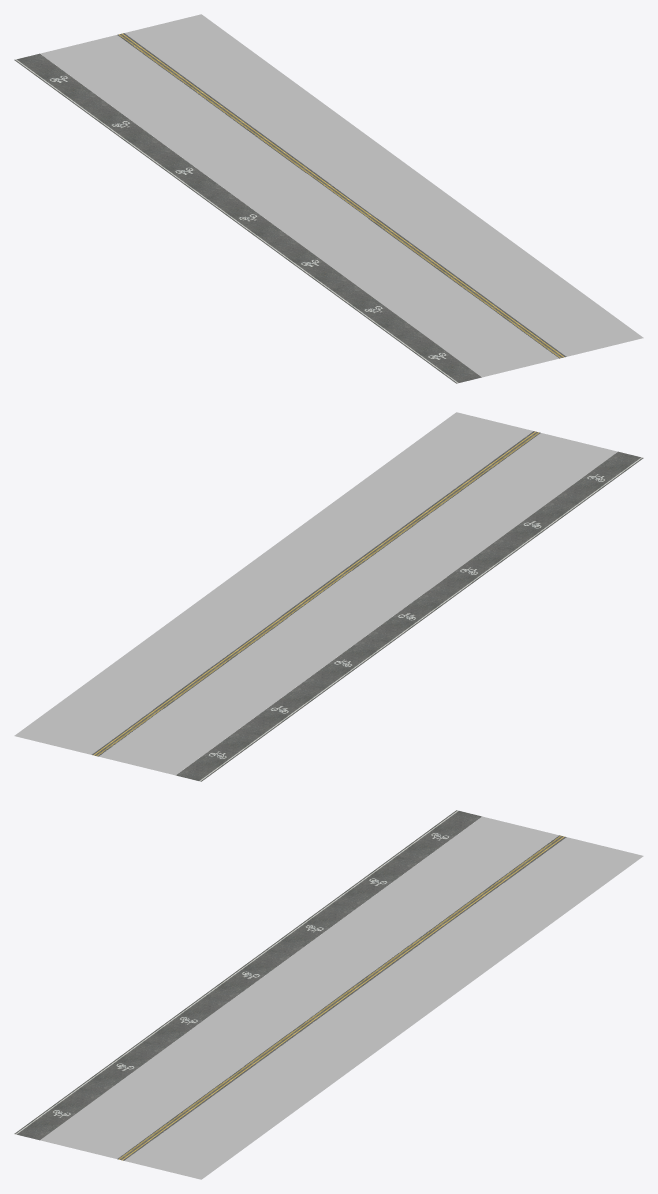
File: 双向三车道.FBX
The picture shows the model from 3 angles, top to bottom: view 1: azimuth 30°, elevation 25°; view 2: azimuth 150°, elevation 25°; view 3: azimuth 330°, elevation 25°; orthographic projection.
Parts seen in each view (by area): view 1: Plane122, Plane142, Plane124, Plane119, Plane120, Plane139, Plane146, Plane145, Plane123, Plane136, Plane144, Plane125 (+9 smaller); view 2: Plane142, Plane122, Plane139, Plane145, Plane120, Plane144, Plane146, Plane119, Plane123, Plane124, Plane125, Plane136 (+9 smaller); view 3: Plane140, Plane122, Plane145, Plane146, Plane144, Plane120, Plane124, Plane139, Plane119, Plane125, Plane142, Plane123 (+9 smaller).
Boxes of the visible parts, left/top/right/bottom form: Plane122: left=229, top=173, right=369, bottom=238; Plane142: left=124, top=14, right=264, bottom=79; Plane124: left=102, top=80, right=242, bottom=145; Plane119: left=419, top=312, right=558, bottom=377; Plane120: left=355, top=265, right=495, bottom=330; Plane139: left=250, top=106, right=390, bottom=171; Plane146: left=503, top=291, right=643, bottom=356; Plane145: left=440, top=245, right=579, bottom=310; Plane123: left=166, top=127, right=306, bottom=192; Plane136: left=314, top=153, right=452, bottom=218; Plane144: left=378, top=198, right=516, bottom=263; Plane125: left=40, top=35, right=179, bottom=99; Plane142: left=14, top=689, right=154, bottom=754; Plane122: left=288, top=571, right=428, bottom=636; Plane139: left=140, top=597, right=280, bottom=662; Plane145: left=329, top=459, right=469, bottom=523; Plane120: left=414, top=479, right=554, bottom=544; Plane144: left=266, top=505, right=405, bottom=570; Plane146: left=393, top=412, right=533, bottom=477; Plane119: left=477, top=433, right=617, bottom=497; Plane123: left=224, top=618, right=364, bottom=682; Plane124: left=162, top=665, right=301, bottom=729; Plane125: left=99, top=710, right=238, bottom=775; Plane136: left=203, top=552, right=341, bottom=615; Plane140: left=441, top=882, right=581, bottom=947; Plane122: left=229, top=955, right=369, bottom=1020; Plane145: left=188, top=1068, right=328, bottom=1132; Plane146: left=124, top=1114, right=264, bottom=1179; Plane144: left=252, top=1021, right=391, bottom=1086; Plane120: left=103, top=1047, right=243, bottom=1112; Plane124: left=356, top=862, right=496, bottom=927; Plane139: left=377, top=929, right=517, bottom=994; Plane119: left=40, top=1094, right=180, bottom=1158; Plane125: left=419, top=816, right=558, bottom=881; Plane142: left=504, top=837, right=643, bottom=902; Plane123: left=293, top=909, right=433, bottom=973.
Bounding box in the file's own units: 2541 × 6.26e-05 × 10383.
